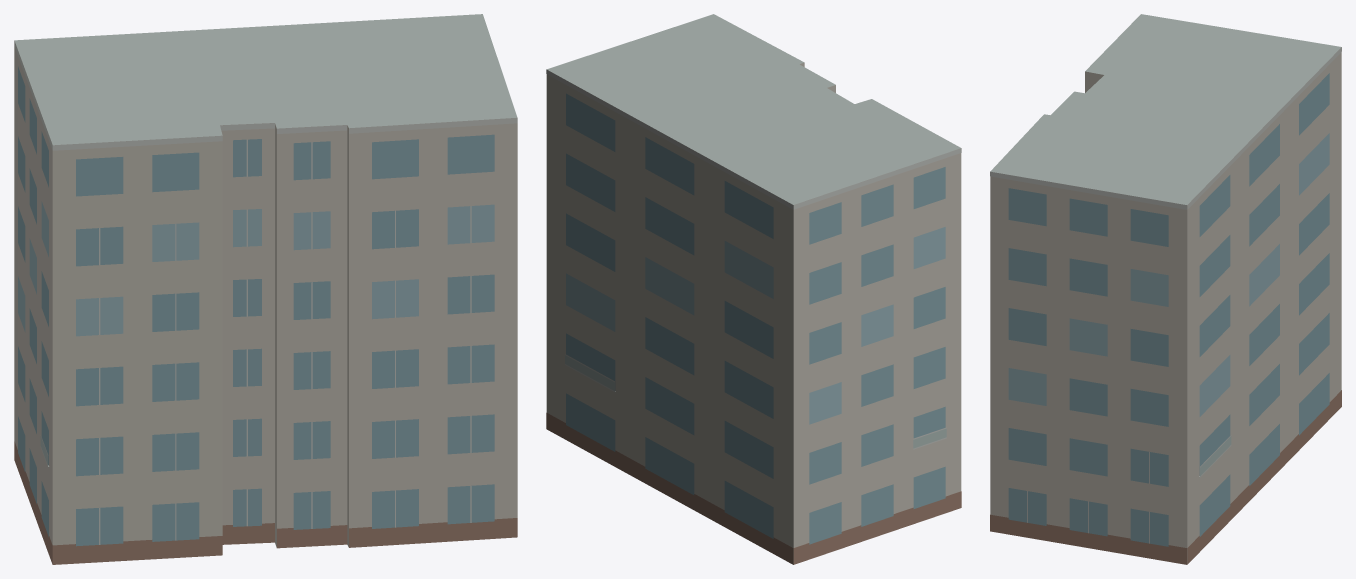
Rendered from survey-upis-32914308.glb.
3 views of the same model, side by side, from view 1: azimuth 30°, elevation 25°; view 2: azimuth 150°, elevation 25°; view 3: azimuth 270°, elevation 25° (orthographic). The views are drawn at different scales.
Visible parts, largest first — view 1: survey-upis-32914308.tmp; view 2: survey-upis-32914308.tmp; view 3: survey-upis-32914308.tmp.
Boxes of the visible parts, bbox=[...] form: survey-upis-32914308.tmp: bbox=[14, 14, 517, 564]; survey-upis-32914308.tmp: bbox=[546, 14, 961, 564]; survey-upis-32914308.tmp: bbox=[990, 14, 1341, 564].
Bounding box in the file's own units: 20.98 × 18.4 × 16.31.
